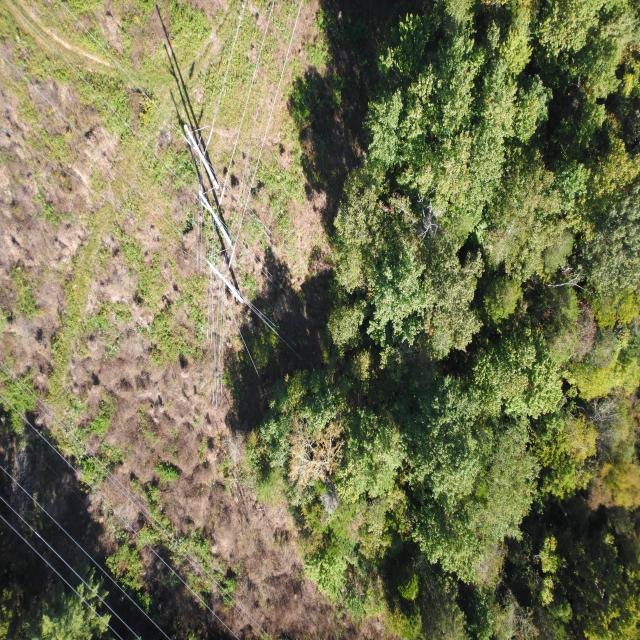Area of Interest: (258, 9, 638, 637)
